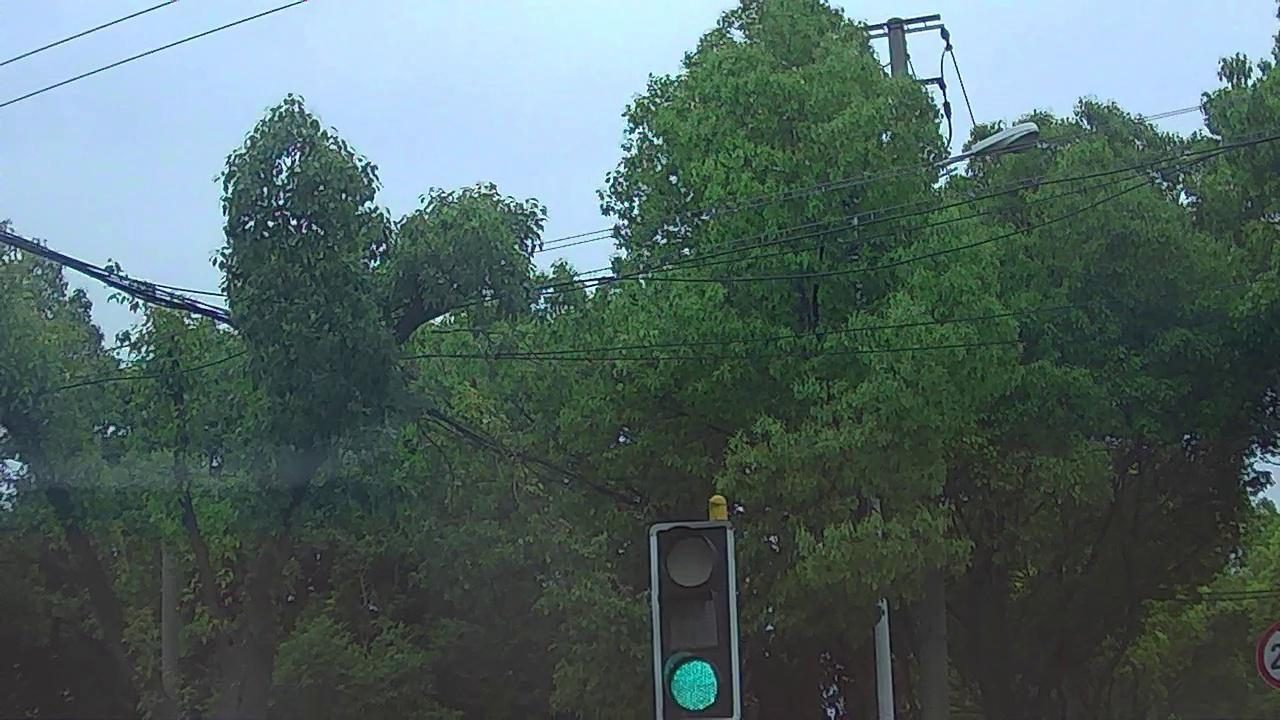traffic_light: (657, 520, 736, 720)
